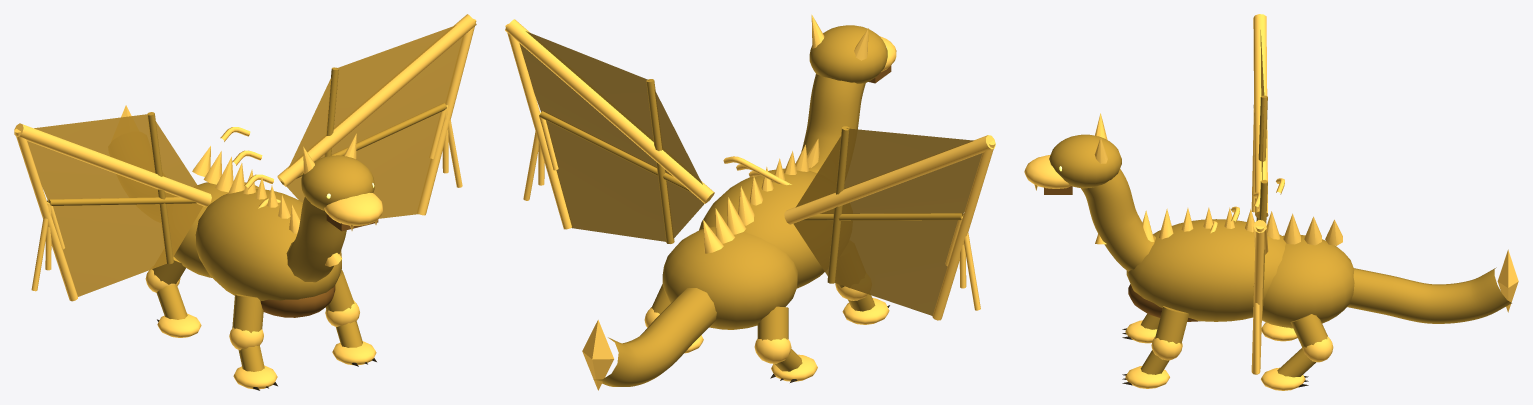
Rendered from golden_dragon.glb.
The picture shows the model from 3 angles, left to right: view 1: azimuth 30°, elevation 25°; view 2: azimuth 150°, elevation 25°; view 3: azimuth 270°, elevation 25°; orthographic projection. The views are drawn at different scales.
Visible parts, largest first — view 1: golden_dragon_wing_left, golden_dragon_wing_right, golden_dragon_barrel_chest, golden_dragon_wing_main_bone_right, golden_dragon_serpentine_neck, golden_dragon_wing_main_bone_left, golden_dragon_skull, golden_dragon_wing_outer_bone_left, golden_dragon_wing_outer_bone_right, golden_dragon_muzzle, golden_dragon_haunches, golden_dragon_belly (+17 smaller); view 2: golden_dragon_wing_left, golden_dragon_wing_right, golden_dragon_haunches, golden_dragon_long_tail, golden_dragon_barrel_chest, golden_dragon_wing_main_bone_right, golden_dragon_serpentine_neck, golden_dragon_skull, golden_dragon_wing_main_bone_left, golden_dragon_wing_outer_bone_left, golden_dragon_wing_outer_bone_right, golden_dragon_wing_inner_rib_right (+10 smaller); view 3: golden_dragon_barrel_chest, golden_dragon_long_tail, golden_dragon_haunches, golden_dragon_serpentine_neck, golden_dragon_skull, golden_dragon_wing_main_bone_left, golden_dragon_wing_outer_bone_right, golden_dragon_muzzle, golden_dragon_leg_2_upper, golden_dragon_leg_4_upper, golden_dragon_tail_solar_blade, golden_dragon_paw_2 (+10 smaller).
Part boxes in pixels (bbox=[...]): golden_dragon_wing_left: bbox=[27, 113, 203, 296]; golden_dragon_wing_right: bbox=[287, 25, 463, 218]; golden_dragon_barrel_chest: bbox=[195, 189, 341, 300]; golden_dragon_wing_main_bone_right: bbox=[277, 14, 476, 186]; golden_dragon_serpentine_neck: bbox=[286, 197, 346, 282]; golden_dragon_wing_main_bone_left: bbox=[14, 123, 211, 206]; golden_dragon_skull: bbox=[301, 155, 374, 210]; golden_dragon_wing_outer_bone_left: bbox=[14, 128, 77, 301]; golden_dragon_wing_outer_bone_right: bbox=[417, 19, 476, 215]; golden_dragon_muzzle: bbox=[324, 193, 382, 225]; golden_dragon_haunches: bbox=[174, 182, 258, 277]; golden_dragon_belly: bbox=[260, 285, 335, 317]; golden_dragon_wing_left: bbox=[793, 128, 982, 315]; golden_dragon_wing_right: bbox=[519, 31, 704, 241]; golden_dragon_haunches: bbox=[662, 226, 797, 329]; golden_dragon_long_tail: bbox=[593, 288, 716, 386]; golden_dragon_barrel_chest: bbox=[699, 168, 824, 288]; golden_dragon_wing_main_bone_right: bbox=[505, 19, 714, 203]; golden_dragon_serpentine_neck: bbox=[801, 74, 865, 172]; golden_dragon_skull: bbox=[809, 25, 887, 83]; golden_dragon_wing_main_bone_left: bbox=[784, 135, 995, 224]; golden_dragon_wing_outer_bone_left: bbox=[932, 140, 995, 320]; golden_dragon_wing_outer_bone_right: bbox=[505, 24, 571, 229]; golden_dragon_wing_inner_rib_right: bbox=[646, 79, 674, 243]; golden_dragon_barrel_chest: bbox=[1126, 219, 1285, 321]; golden_dragon_long_tail: bbox=[1347, 267, 1511, 323]; golden_dragon_haunches: bbox=[1262, 235, 1354, 327]; golden_dragon_serpentine_neck: bbox=[1081, 169, 1155, 271]; golden_dragon_skull: bbox=[1049, 134, 1121, 188]; golden_dragon_wing_main_bone_left: bbox=[1253, 14, 1268, 217]; golden_dragon_wing_outer_bone_right: bbox=[1251, 226, 1264, 374]; golden_dragon_muzzle: bbox=[1024, 155, 1070, 188]; golden_dragon_leg_2_upper: bbox=[1155, 306, 1188, 344]; golden_dragon_leg_4_upper: bbox=[1290, 314, 1327, 347]; golden_dragon_tail_solar_blade: bbox=[1497, 249, 1518, 312]; golden_dragon_paw_2: bbox=[1125, 366, 1169, 388].
Size of the model in its own units: 9.6 by 5.18 by 9.45.
